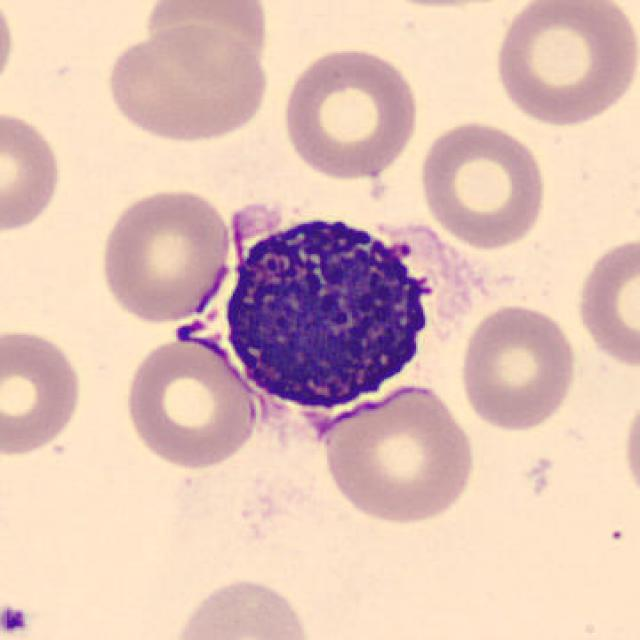Basophil: (199, 190, 468, 427)
Platelets: (0, 601, 30, 638)
RBC: (318, 381, 480, 527), (101, 19, 274, 144), (277, 42, 423, 182), (94, 183, 235, 324), (119, 335, 261, 472), (489, 0, 638, 129), (414, 116, 550, 252), (455, 300, 581, 434), (0, 324, 87, 460), (138, 0, 273, 79), (167, 573, 318, 640), (570, 231, 640, 372), (0, 104, 66, 238), (618, 384, 640, 512), (355, 0, 533, 12), (0, 0, 18, 102)
